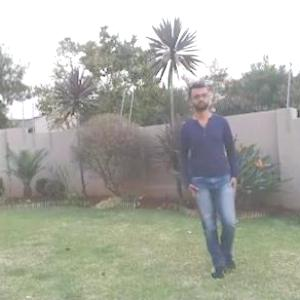follow: (176, 73, 250, 288)
